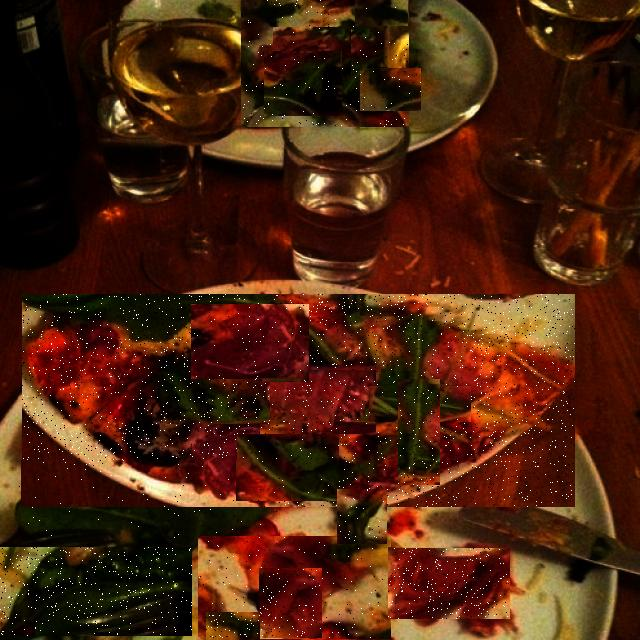Ham: (191, 304, 309, 382), (388, 548, 511, 619), (260, 370, 376, 434), (259, 569, 322, 638), (274, 27, 351, 74), (63, 431, 114, 465)
Pizza: (22, 294, 575, 507), (242, 0, 408, 127), (199, 537, 391, 638)
Rucola: (16, 460, 280, 538), (0, 547, 192, 636), (237, 434, 339, 501), (265, 51, 342, 116), (160, 379, 270, 424), (398, 379, 440, 485), (369, 386, 471, 422), (337, 489, 387, 544), (361, 68, 421, 111), (207, 613, 260, 640), (356, 0, 408, 26)
